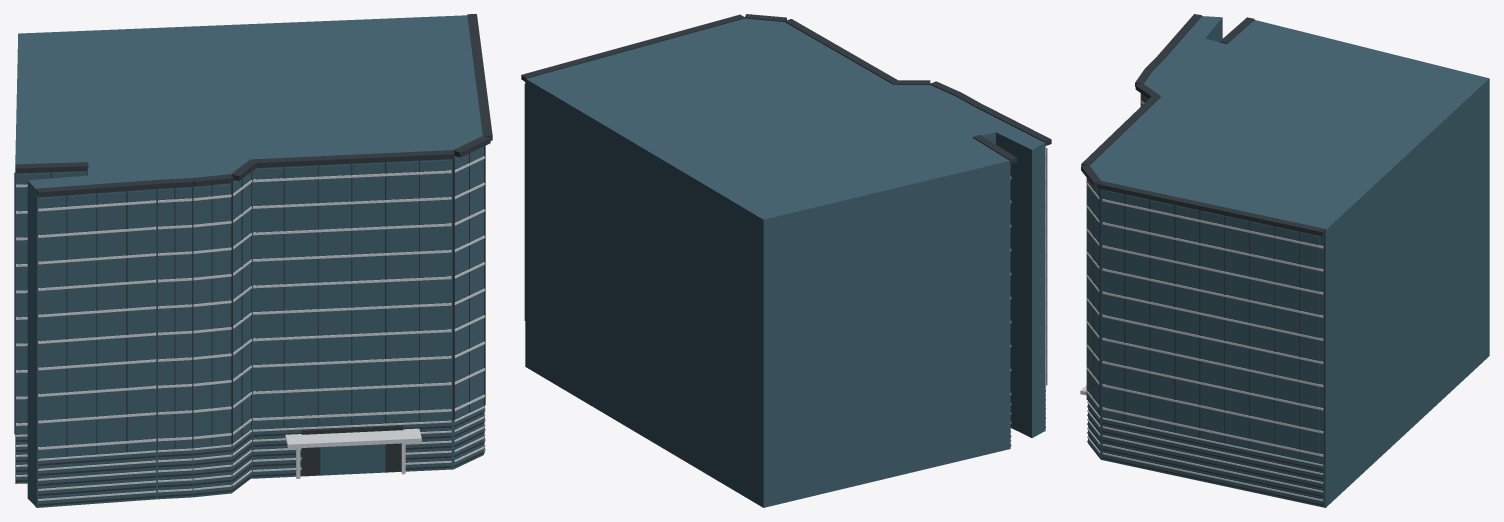
3 views of the same model, side by side, from view 1: azimuth 30°, elevation 25°; view 2: azimuth 150°, elevation 25°; view 3: azimuth 270°, elevation 25° (orthographic). The views are drawn at different scales.
Visible parts, largest first — view 1: 193475626_opaque glazing, 193475626_accent, 193475626_frames; view 2: 193475626_opaque glazing, 193475626_frames; view 3: 193475626_opaque glazing, 193475626_frames, 193475626_accent.
Boxes of the visible parts, bbox=[...] form: 193475626_opaque glazing: bbox=[15, 15, 483, 507]; 193475626_accent: bbox=[16, 156, 485, 500]; 193475626_frames: bbox=[14, 14, 492, 505]; 193475626_opaque glazing: bbox=[525, 18, 1045, 507]; 193475626_frames: bbox=[521, 14, 1051, 445]; 193475626_opaque glazing: bbox=[1087, 16, 1489, 507]; 193475626_frames: bbox=[1081, 14, 1325, 505]; 193475626_accent: bbox=[1080, 100, 1323, 501].
Bounding box in the file's own units: 76.82 × 45.75 × 60.87.
